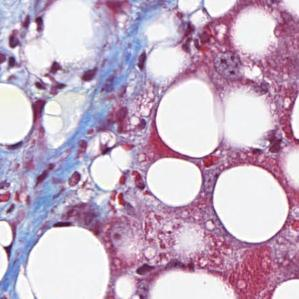inflammation: (3, 11, 52, 51), (29, 59, 77, 99)
